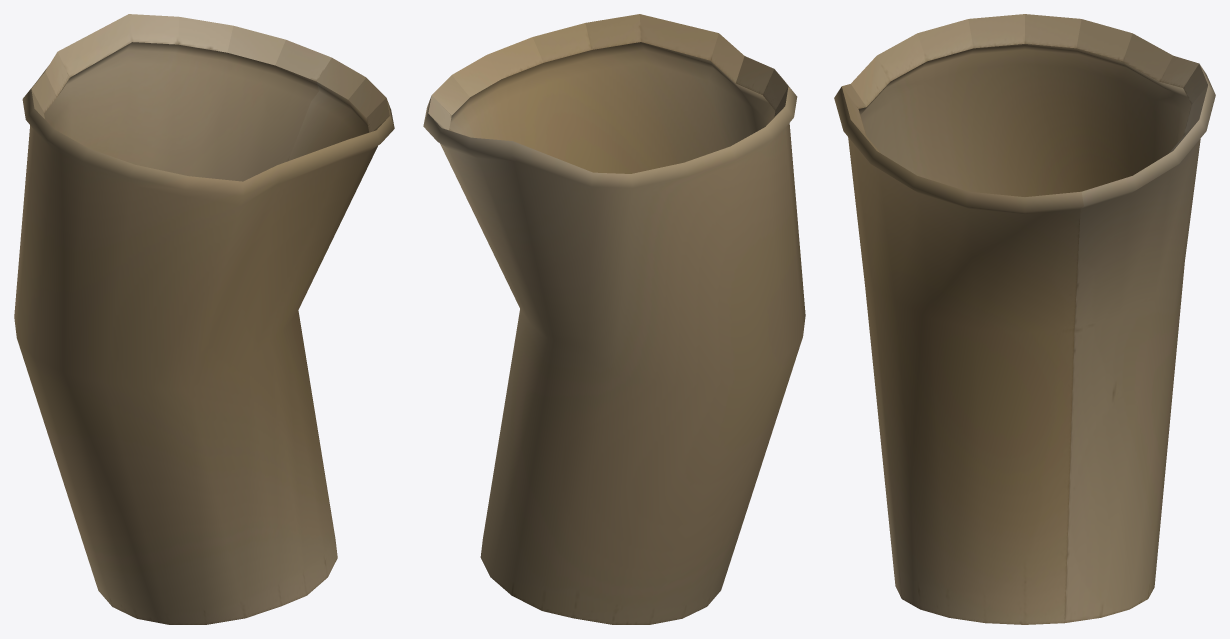
Rendered from cup.fbx.
The picture shows the model from 3 angles, left to right: view 1: azimuth 30°, elevation 25°; view 2: azimuth 150°, elevation 25°; view 3: azimuth 270°, elevation 25°; orthographic projection. The views are drawn at different scales.
Visible parts, largest first — view 1: pCylinder1; view 2: pCylinder1; view 3: pCylinder1.
Part boxes in pixels (bbox=[...]): pCylinder1: bbox=[14, 14, 394, 624]; pCylinder1: bbox=[423, 14, 805, 624]; pCylinder1: bbox=[834, 14, 1215, 624].
Bounding box in the file's own units: 4.53 × 6.47 × 4.29.
1 material, 1 textured.
